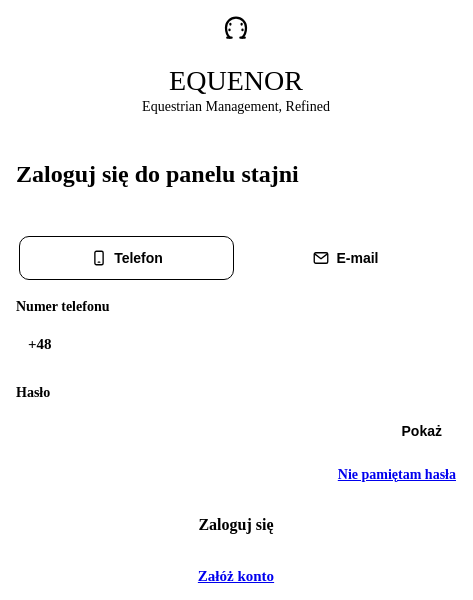
Test: LoginScreen › switches between phone and e-mail
Expected: the heading "Zaloguj się do panelu stajni" is shown, [16,161,299,187]
Click the button "E-mail" at coordinates (346, 258), box [238,236,453,280]
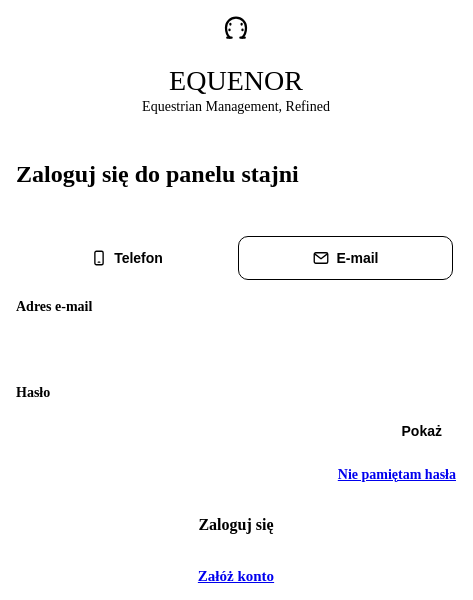
Now the label labelled "Numer telefonu" is gone
